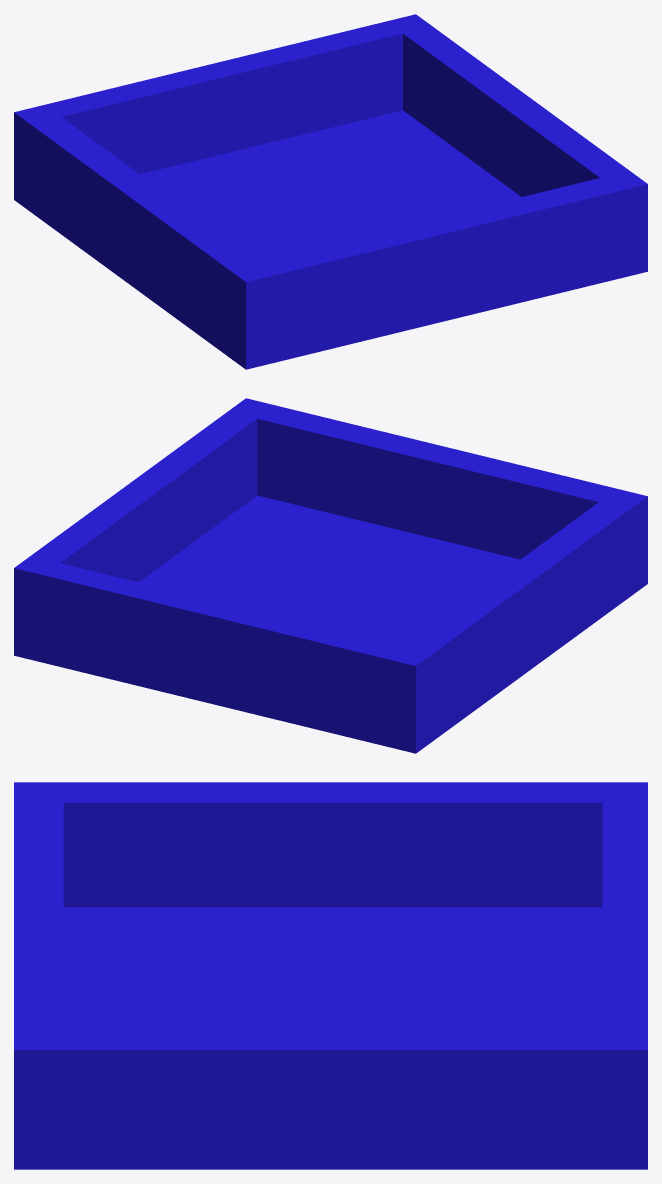
File: object_box_kai_kai.dae
3 renders of one model, top to bottom at view 1: azimuth 30°, elevation 25°; view 2: azimuth 150°, elevation 25°; view 3: azimuth 270°, elevation 25°, orthographic. The views are drawn at different scales.
Visible parts, largest first — view 1: Cube; view 2: Cube; view 3: Cube.
Part boxes in pixels (box(x1,y1,x2,y2)): Cube: box(14, 14, 647, 369); Cube: box(14, 398, 647, 753); Cube: box(14, 782, 647, 1169).
Size of the model in its own units: 0.48 by 0.48 by 0.1.
